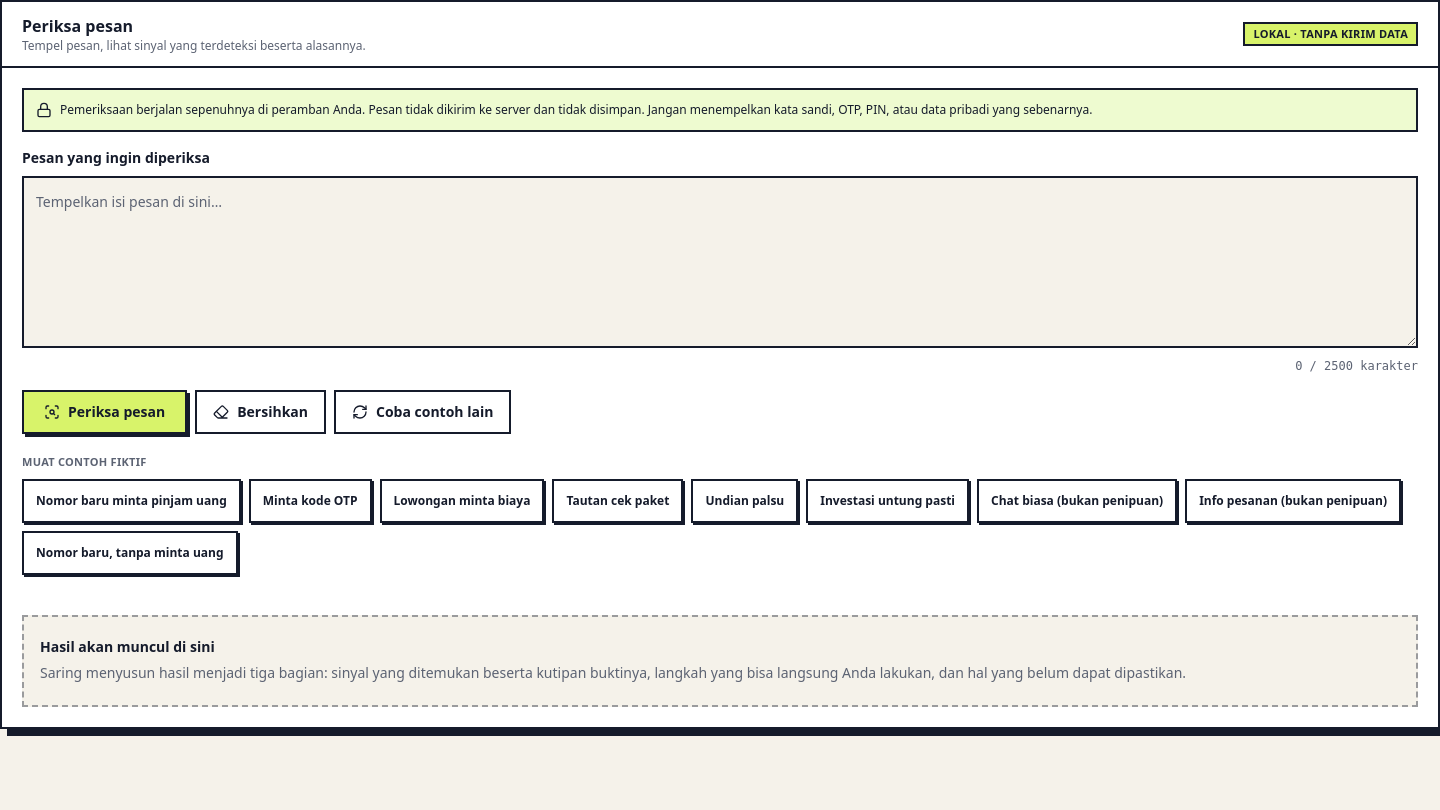
Test case: Analyzer › produces a result without writing to browser storage
Type "kirim kode OTP Anda sekarang untuk verifikasi" into the text box labelled "Pesan yang ingin diperiksa" at (720, 262), box [22,176,1418,348]
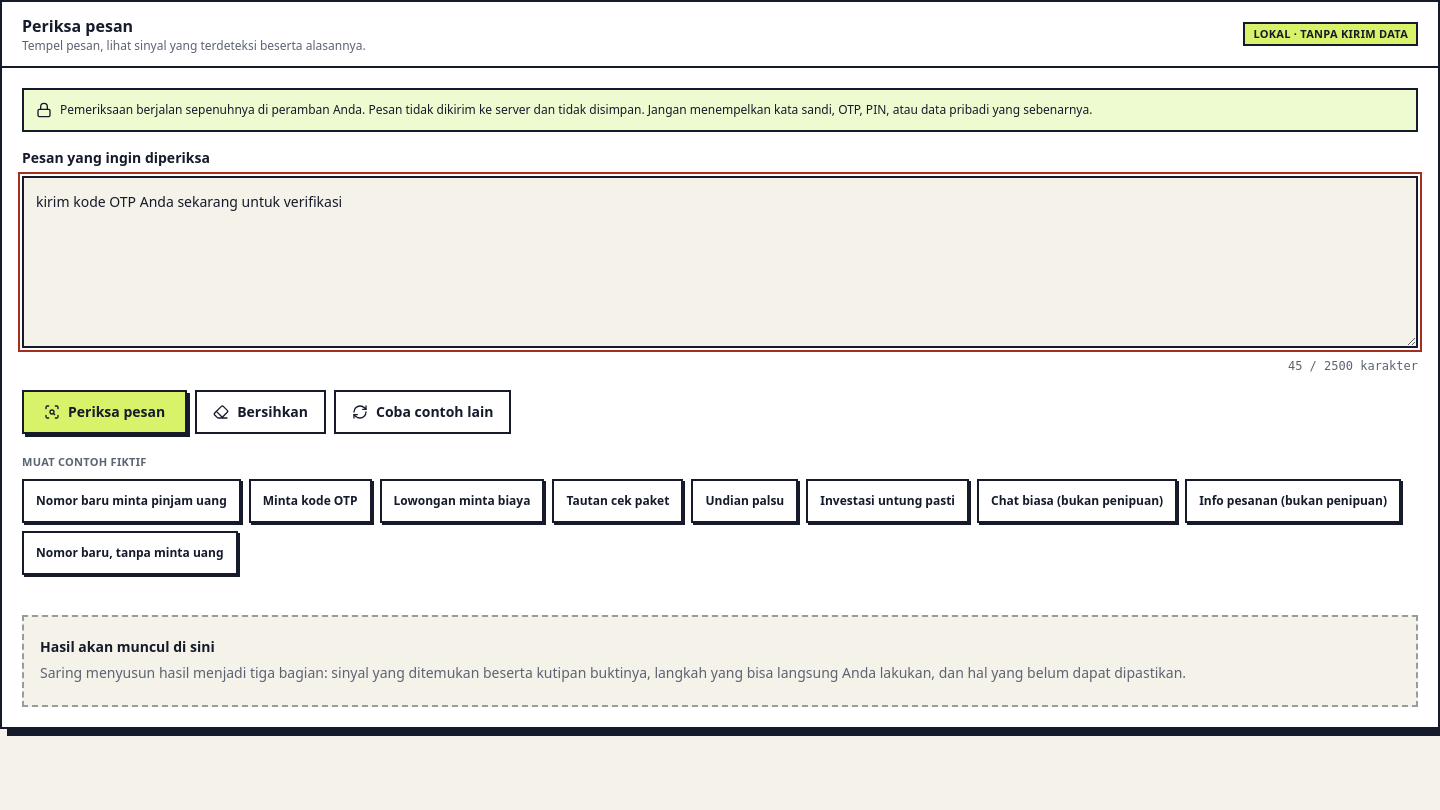
Click the button "Periksa pesan" at (105, 412), box [22,390,187,434]
(page scrolled)
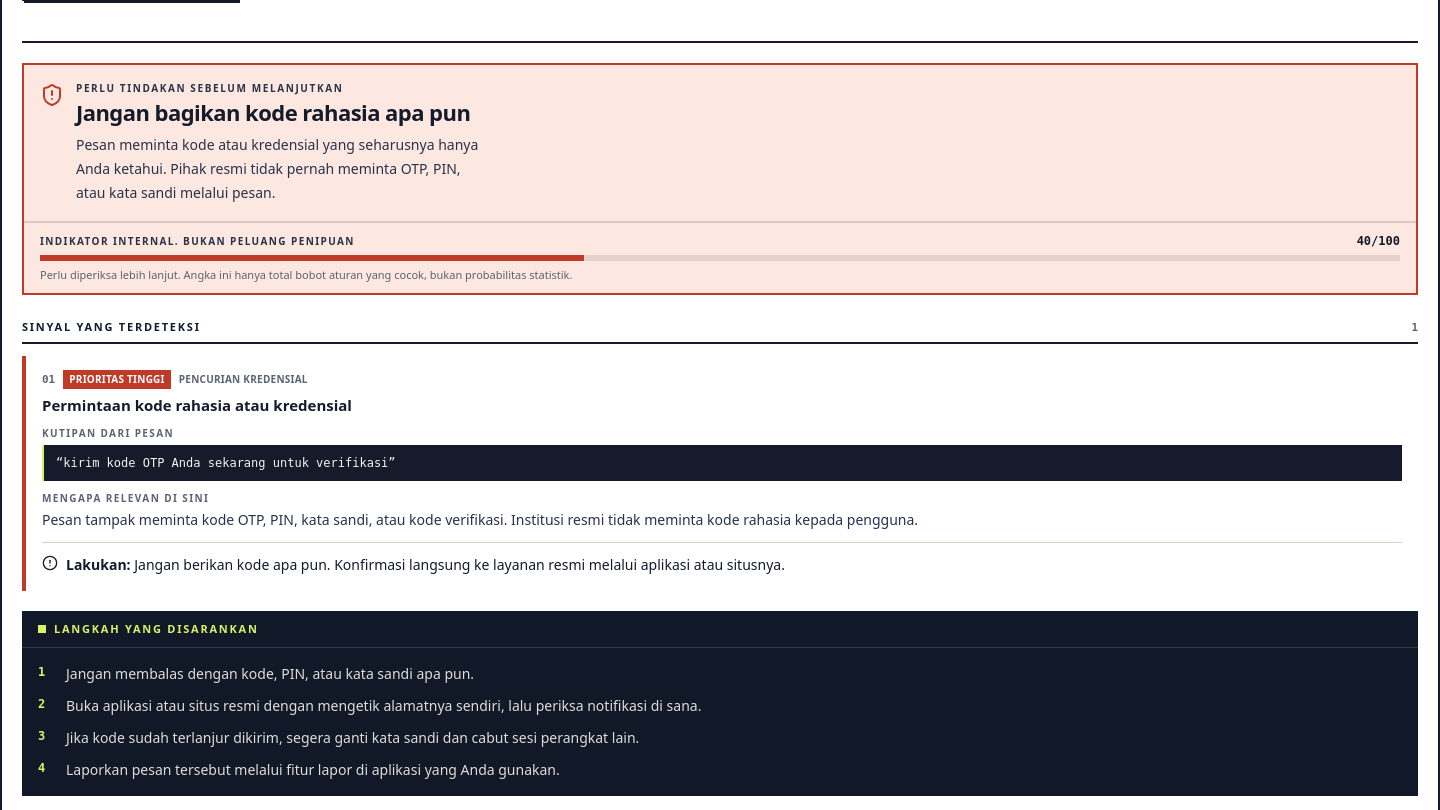
Now the heading "Permintaan kode rahasia atau kredensial" is shown, box [42,395,352,415]
